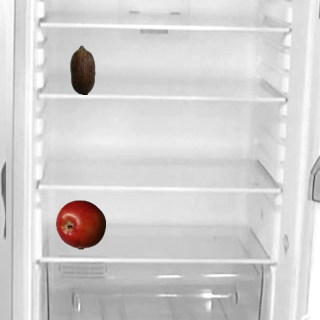Apple Braeburn: (55, 199, 105, 249)
Nut Pecan: (57, 44, 107, 94)
